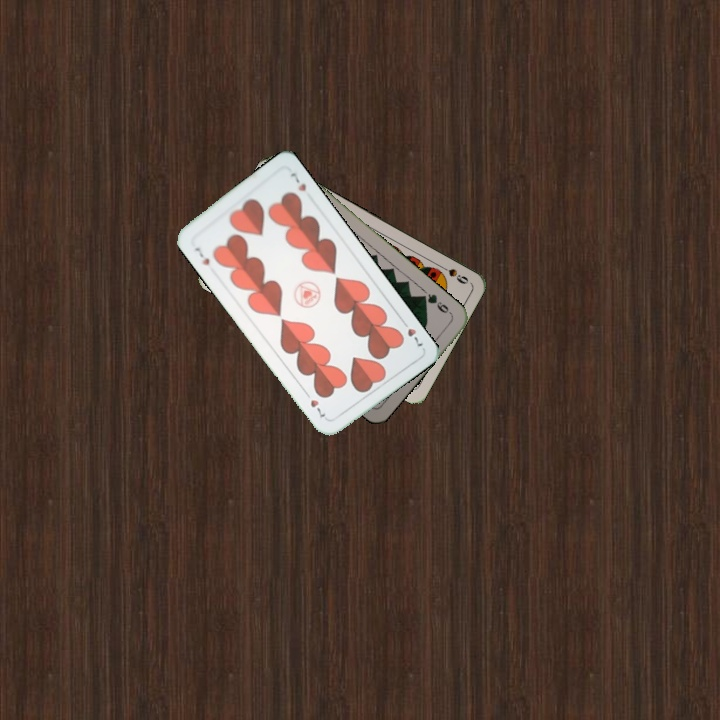G9: (418, 289, 455, 318)
H7: (397, 316, 426, 349), (191, 243, 212, 268)
S9: (434, 260, 471, 287)
